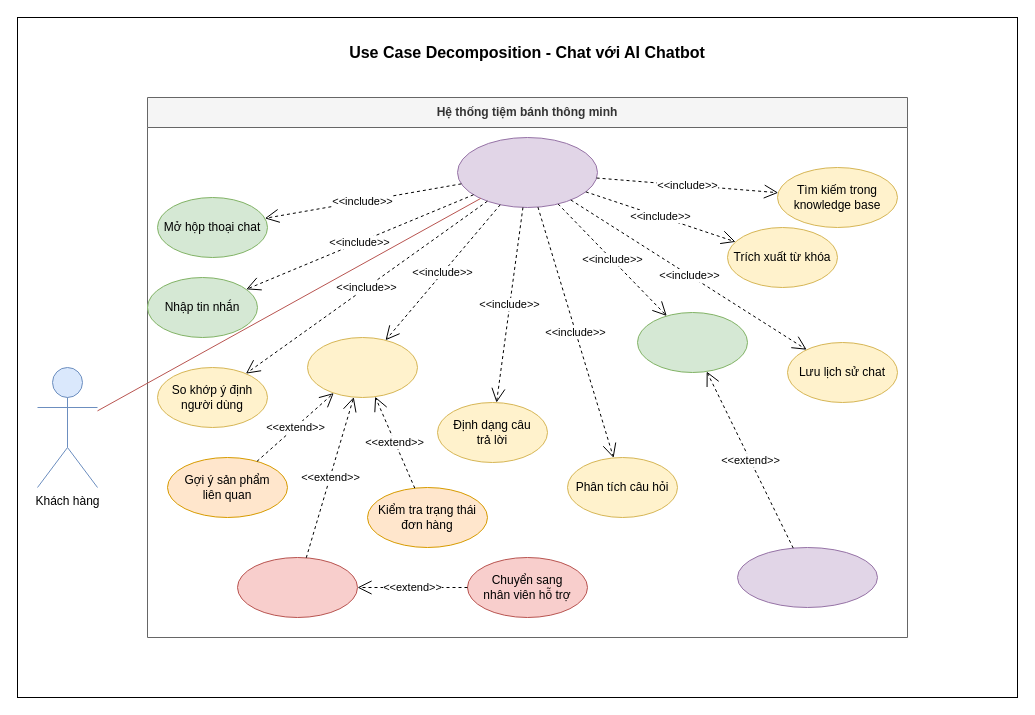
Some shapes in this 1035 by 715 pixel diagram are drawn without their labels. Each missing label, with the centre of its shape:
Chat với AI Chatbot: the point at 527,172
Hiển thị câu trả lời: the point at 692,342
Lấy câu trả lời phù hợp: the point at 362,367
Xử lý không hiểu câu hỏi: the point at 297,587
Đánh giá câu trả lời: the point at 807,577
